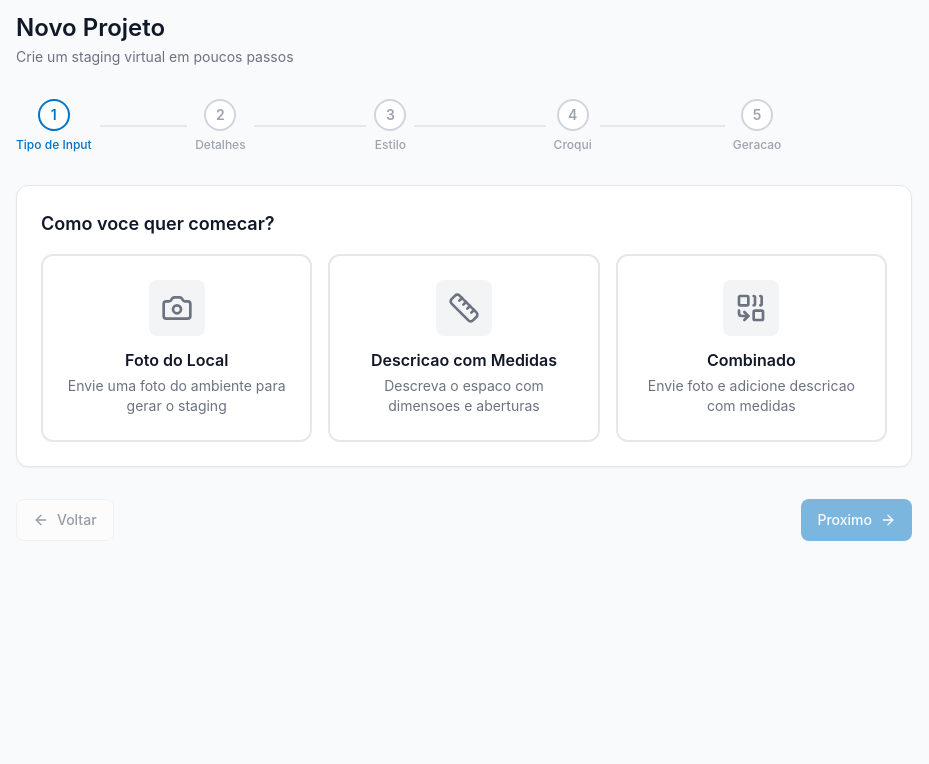
Test: NewProjectPage › Voltar button returns to Step 1
Click the heading "Foto do Local". click: [177, 360]
box: [125,350,228,370]
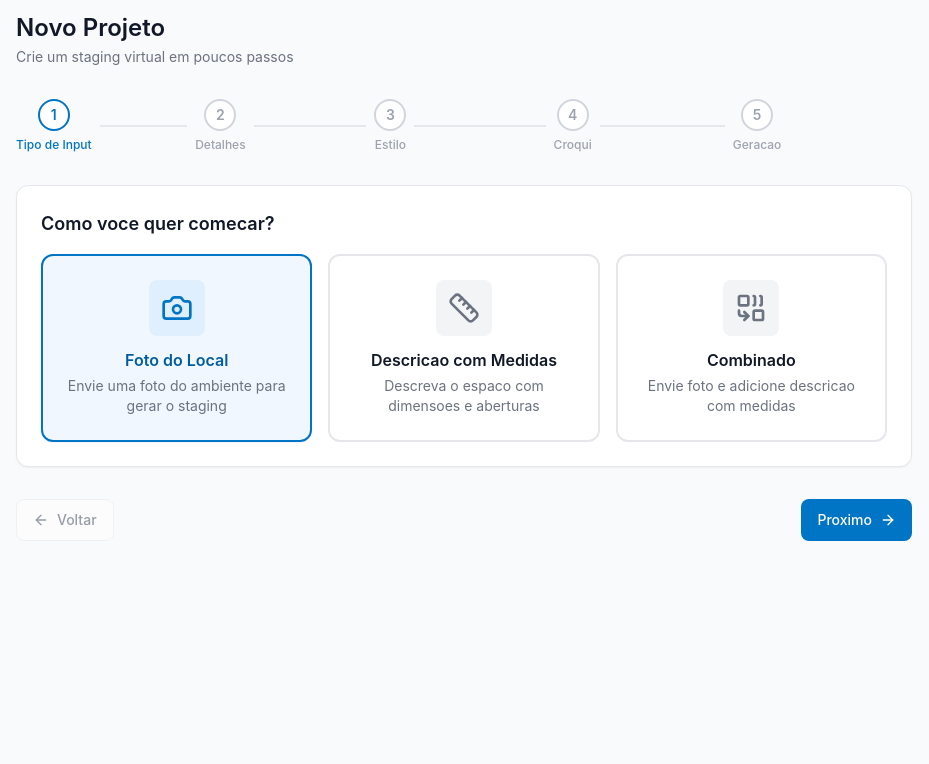
Click the button "Proximo". click: [857, 520]
box: [802,499,912,541]
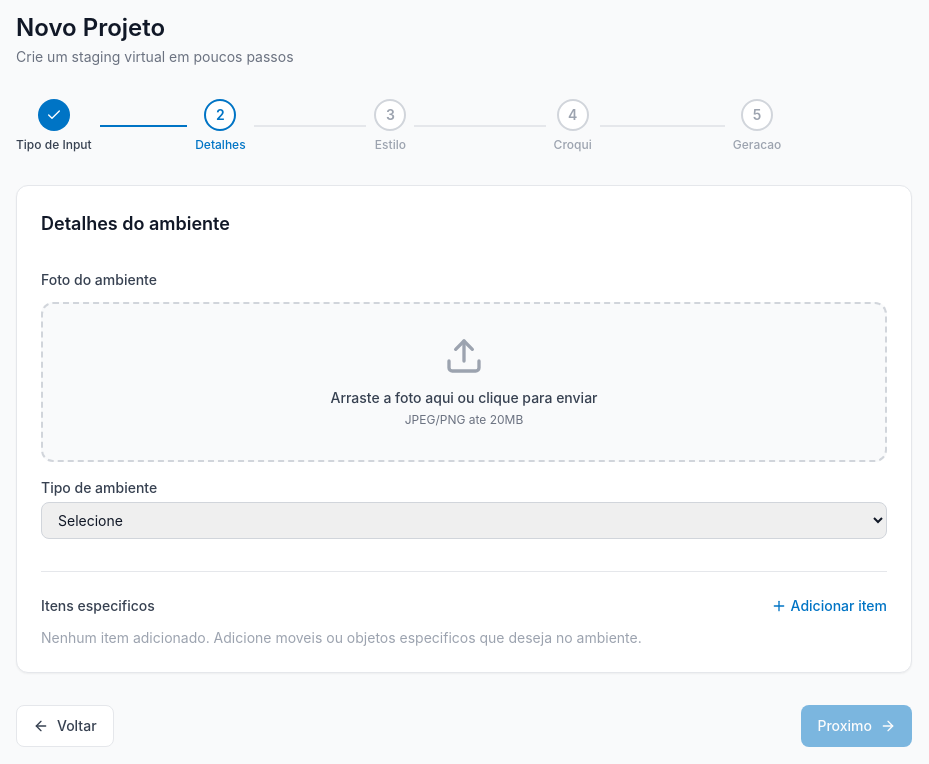
expect the heading "Detalhes do ambiente" is shown: met, box [41,213,230,234]
Click the button "Voltar". click: [65, 726]
box: [16,705,114,747]
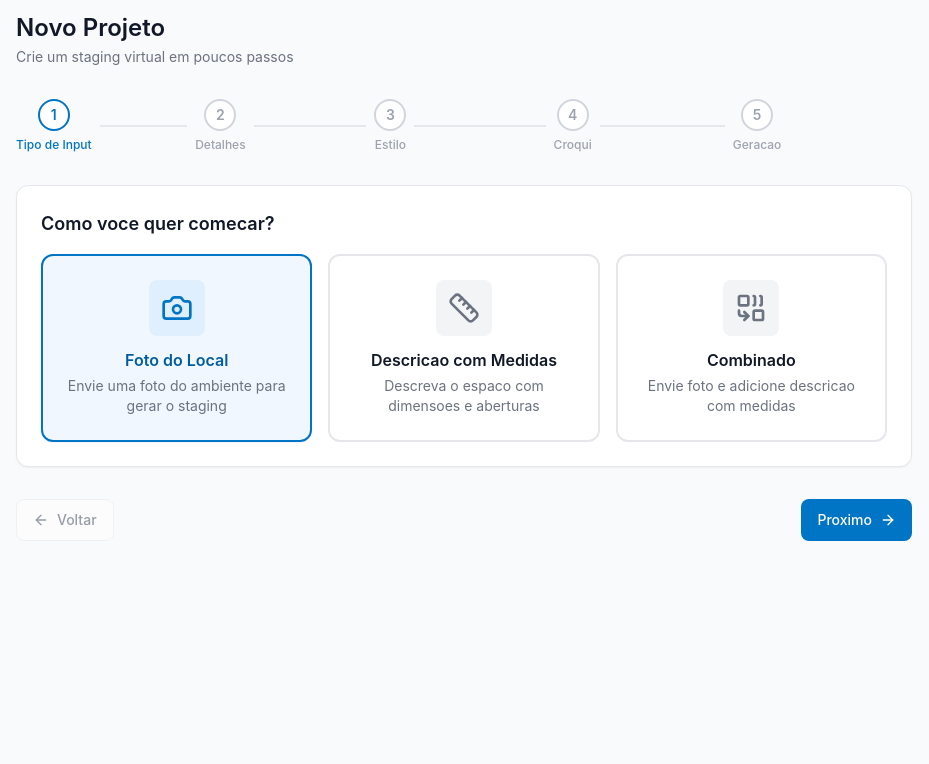
expect the heading "Como voce quer comecar?" is shown: met, box [41,213,275,234]
